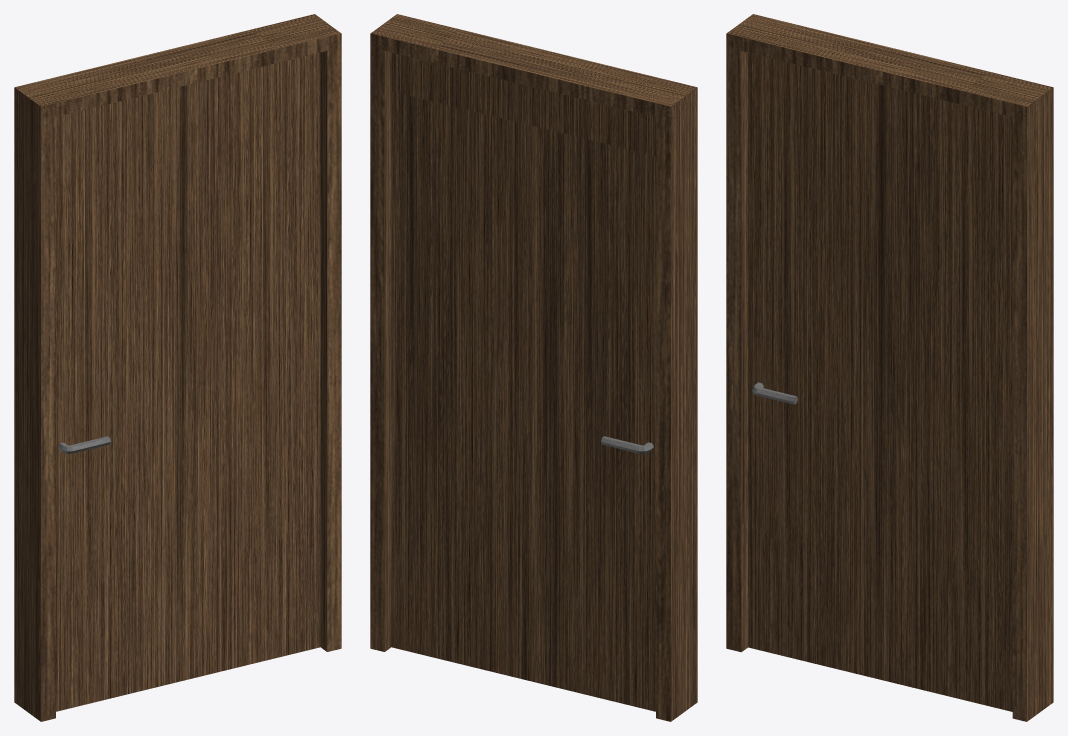
The model's file is Puerta.fbx.
3 renders of one model, left to right at view 1: azimuth 30°, elevation 25°; view 2: azimuth 150°, elevation 25°; view 3: azimuth 330°, elevation 25°, orthographic.
Visible parts, largest first — view 1: Puerta-Madera, Puerta-Marco; view 2: Puerta-Madera, Puerta-Marco; view 3: Puerta-Madera, Puerta-Marco.
Part boxes in pixels (left/top/right/bottom): Puerta-Madera: left=56, top=52, right=320, bottom=711; Puerta-Marco: left=14, top=14, right=341, bottom=721; Puerta-Madera: left=391, top=52, right=655, bottom=711; Puerta-Marco: left=370, top=14, right=697, bottom=721; Puerta-Madera: left=748, top=52, right=1012, bottom=711; Puerta-Marco: left=726, top=14, right=1053, bottom=721.
Size of the model in its own units: 158 by 309 by 26.8.
Materials: 2 (2 with a texture image).
